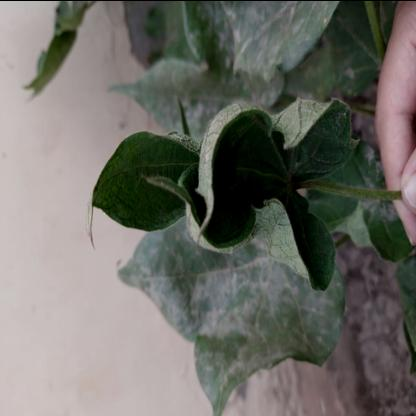curl_stage2: (211, 114, 287, 254), (128, 127, 194, 234), (267, 192, 335, 288), (295, 98, 347, 173), (85, 178, 114, 228)
healthy: (219, 271, 277, 387), (142, 244, 207, 322)
